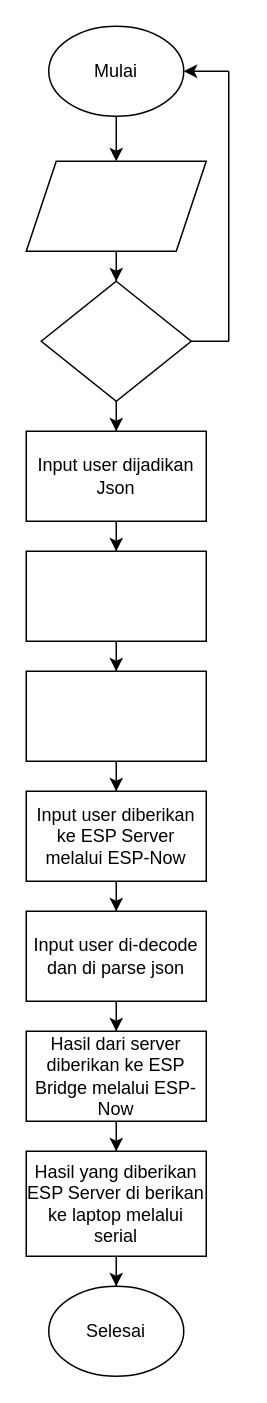
The diagram is 267 pixels wide and 1403 high, and some of its shapes have lost their labels. The centre of each missing label's shape, as x and y in pixels:
Apakah input user valid?: pixel 115 340
Input user: pixel 115 205
Input user diberikan ke ESP Bridge melalui serial: pixel 115 715
Input user dijadikan Hexadecimal: pixel 115 595
